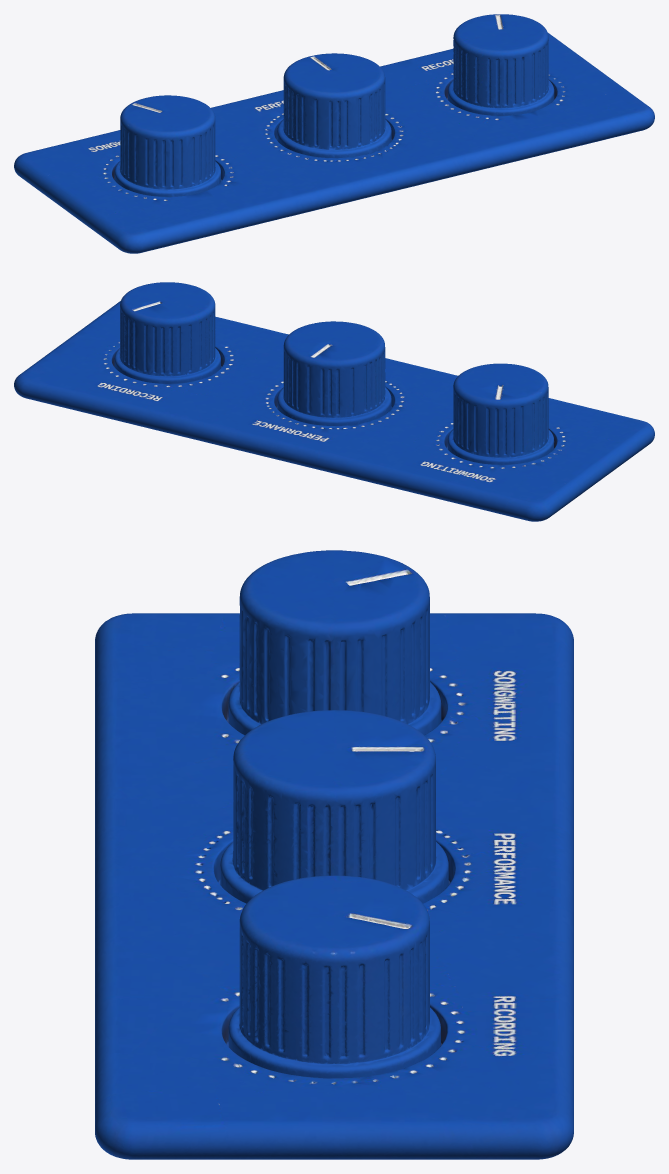
Rendered from blue_dials_optimized.glb.
The picture shows the model from 3 angles, top to bottom: view 1: azimuth 30°, elevation 25°; view 2: azimuth 150°, elevation 25°; view 3: azimuth 270°, elevation 25°; orthographic projection. The views are drawn at different scales.
Visible parts, largest first — view 1: mesh_node; view 2: mesh_node; view 3: mesh_node.
Part boxes in pixels (box(x1,y1,x2,y2)): mesh_node: box(14, 14, 654, 253); mesh_node: box(14, 282, 654, 521); mesh_node: box(95, 550, 573, 1159).
Bounding box in the file's own units: 1.9 × 0.3205 × 0.7373.
Materials: 1 (1 with a texture image).
